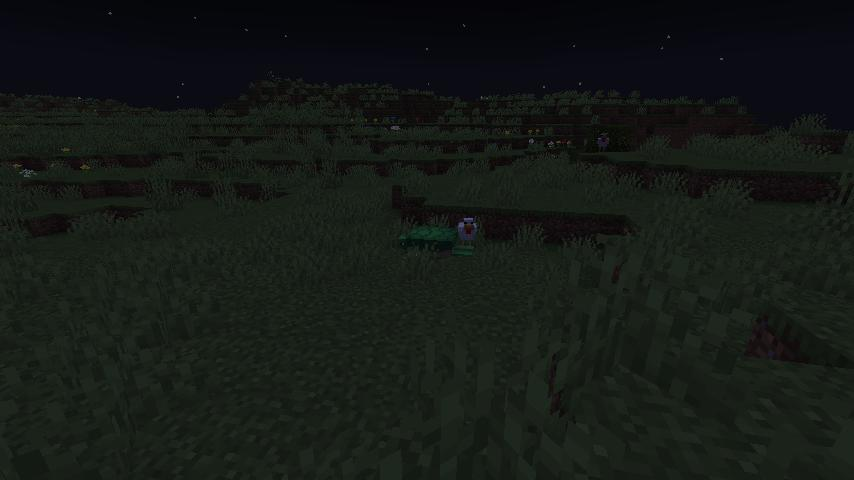chicken: (456, 215, 480, 245), (596, 131, 610, 152)
turtle: (394, 225, 476, 260)
